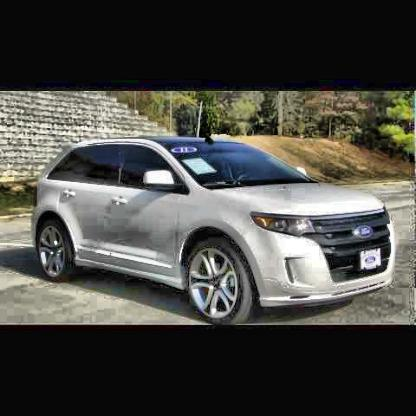Ford Edge SUV 2012: (34, 137, 399, 326)
